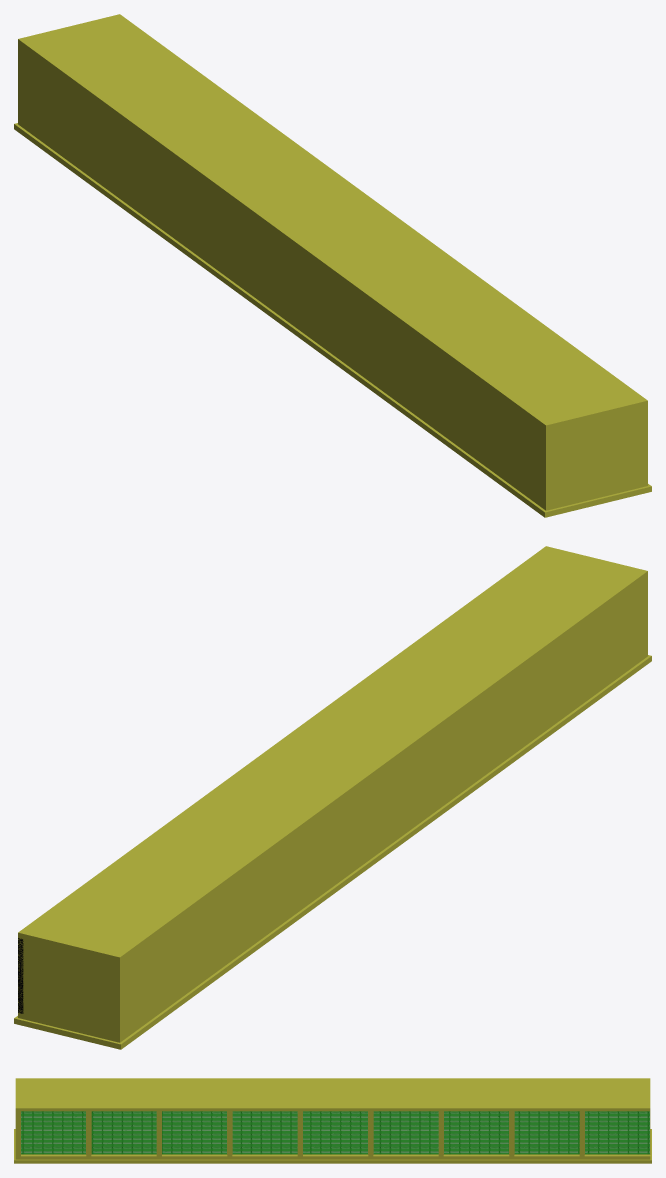
The picture shows the model from 3 angles, top to bottom: view 1: azimuth 30°, elevation 25°; view 2: azimuth 150°, elevation 25°; view 3: azimuth 270°, elevation 25°; orthographic projection. The views are drawn at different scales.
Visible parts, largest first — view 1: building_001; view 2: building_001; view 3: building_001.
Part boxes in pixels (x1,y1,x2,y2): building_001: [14, 14, 651, 517]; building_001: [14, 546, 651, 1049]; building_001: [14, 1078, 651, 1163].
Bounding box in the file's own units: 420 × 340 × 3609.
